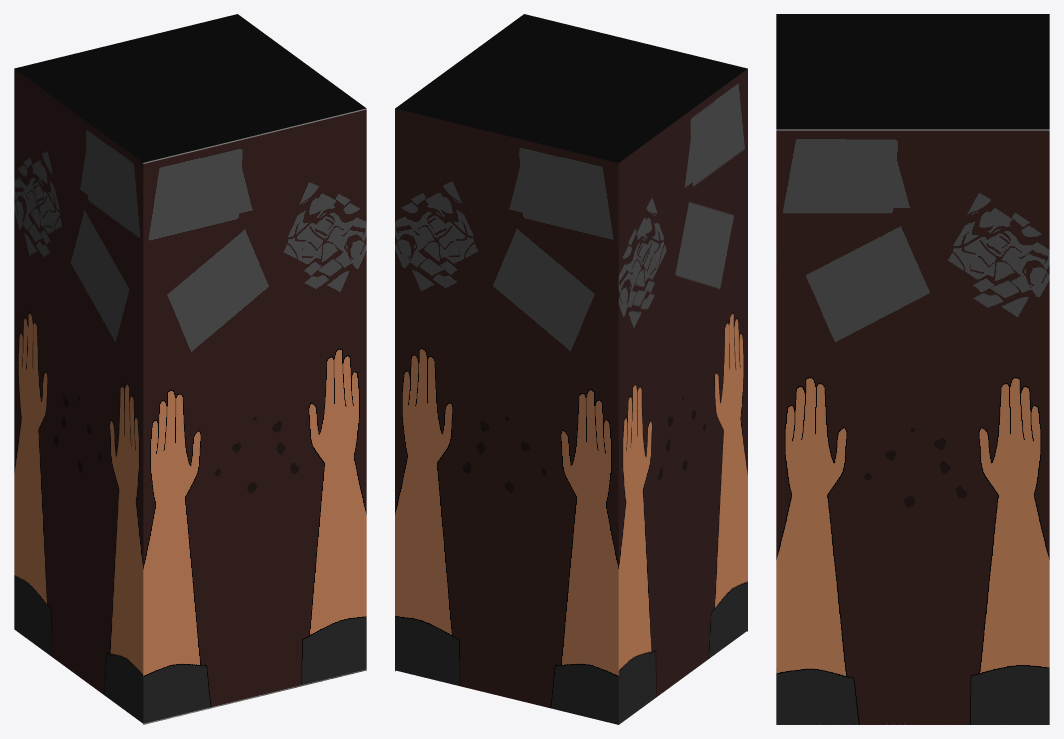
Rendered from ProjectionSide3 1.fbx.
3 renders of one model, left to right at view 1: azimuth 30°, elevation 25°; view 2: azimuth 150°, elevation 25°; view 3: azimuth 270°, elevation 25°, orthographic. The views are drawn at different scales.
Parts seen in each view (by area): view 1: pCube1251; view 2: pCube1251; view 3: pCube1251.
Part boxes in pixels (bbox=[...]): pCube1251: bbox=[14, 14, 366, 724]; pCube1251: bbox=[395, 14, 747, 724]; pCube1251: bbox=[776, 14, 1049, 724].
Bounding box in the file's own units: 25 × 60.12 × 25.
3 materials, 1 textured.
